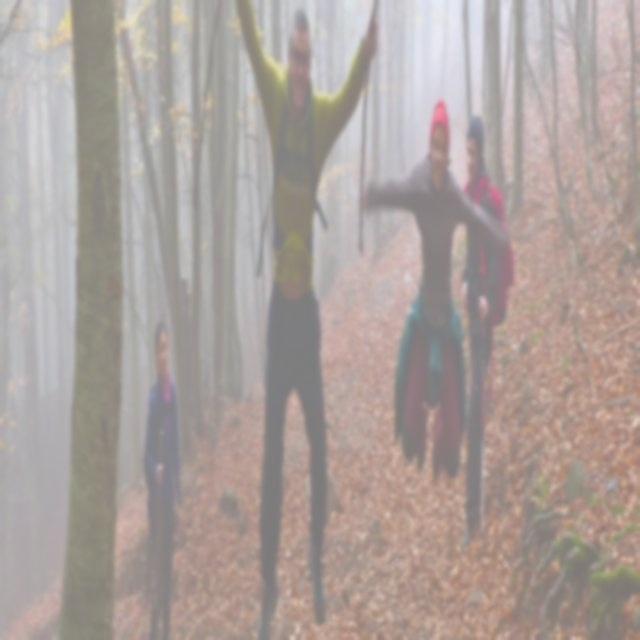pessoa: (230, 0, 380, 639), (359, 93, 514, 490), (458, 108, 514, 536), (141, 318, 183, 640)
